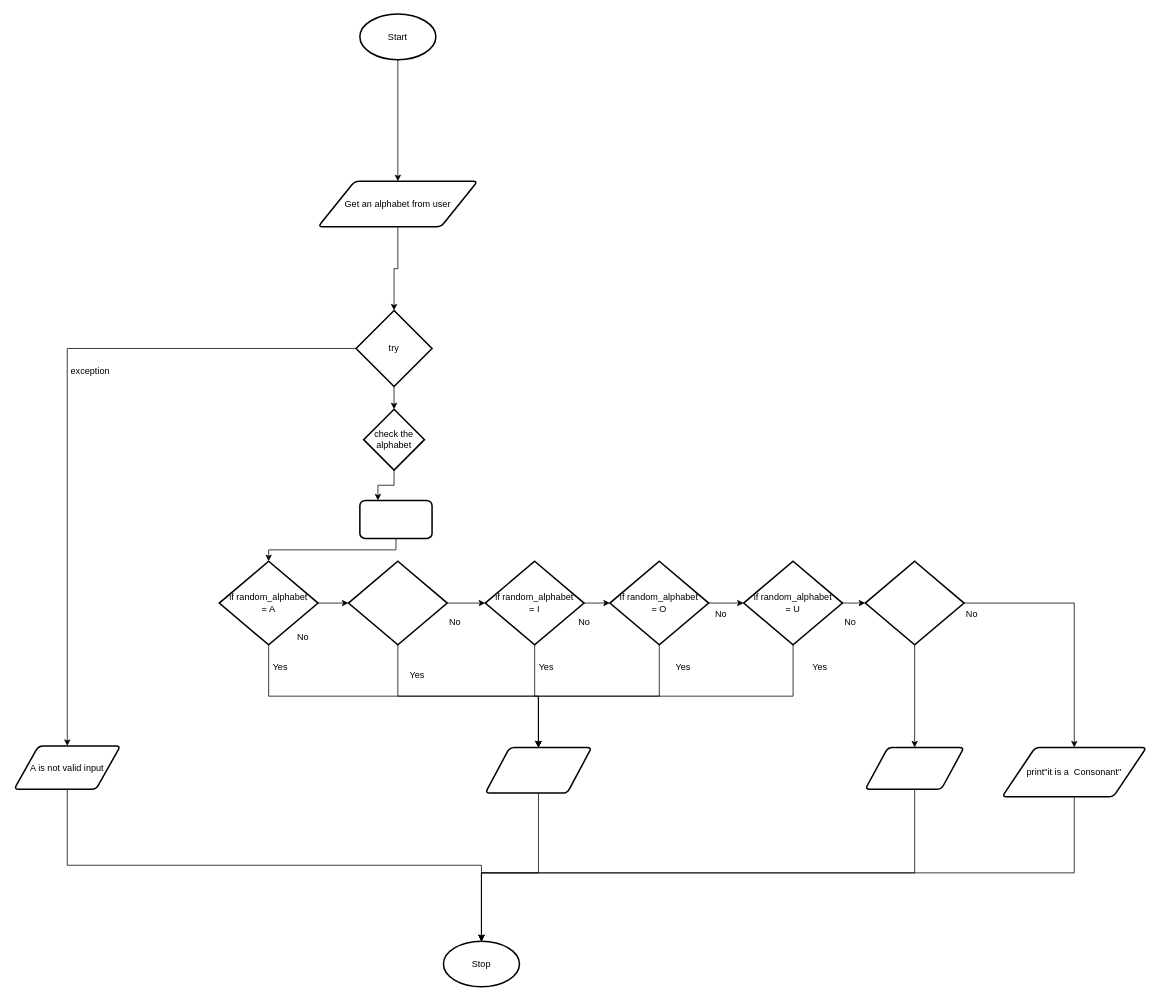
Some shapes in this 1160 by 1000 pixel diagram are drawn without their labels. The shapes that lost their labels are listed below. From the top down, each one's centre as x and y in pixels, then its label:
(x=395, y=519): Convert string to int
(x=397, y=602): if random_alphabet = E
(x=914, y=602): if random_alphabet = Y
(x=538, y=769): print" it is a vowel"
(x=914, y=768): print"sometimes"
